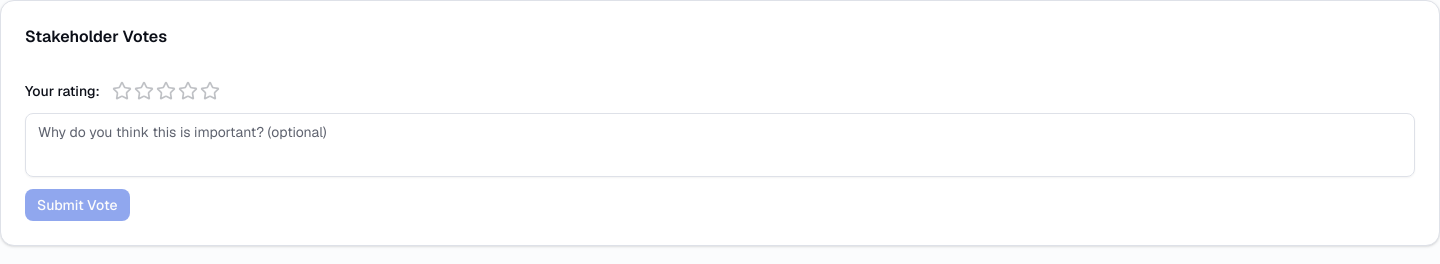
Scenario: VoteWidget › submit button disabled state › should be enabled once a rating is selected
Click the button named "Rate 3 of 5" at (166, 91), box x1=156 y1=81 x2=176 y2=101
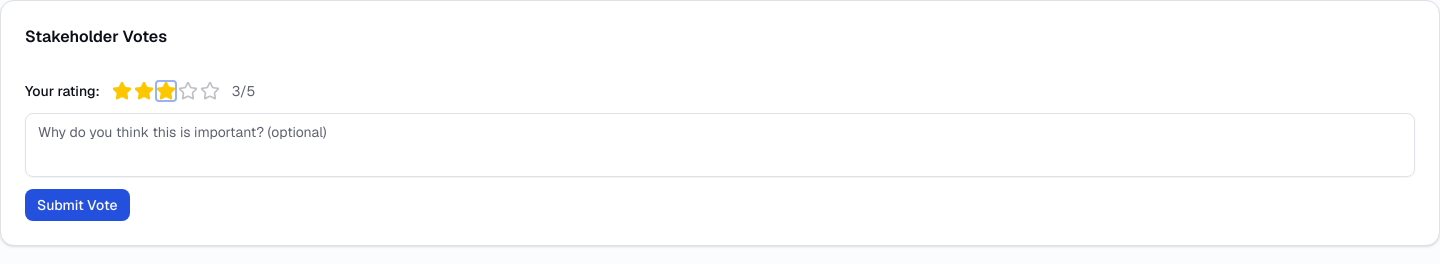
Expected: the button "Submit Vote" is enabled, x1=25 y1=189 x2=130 y2=221
